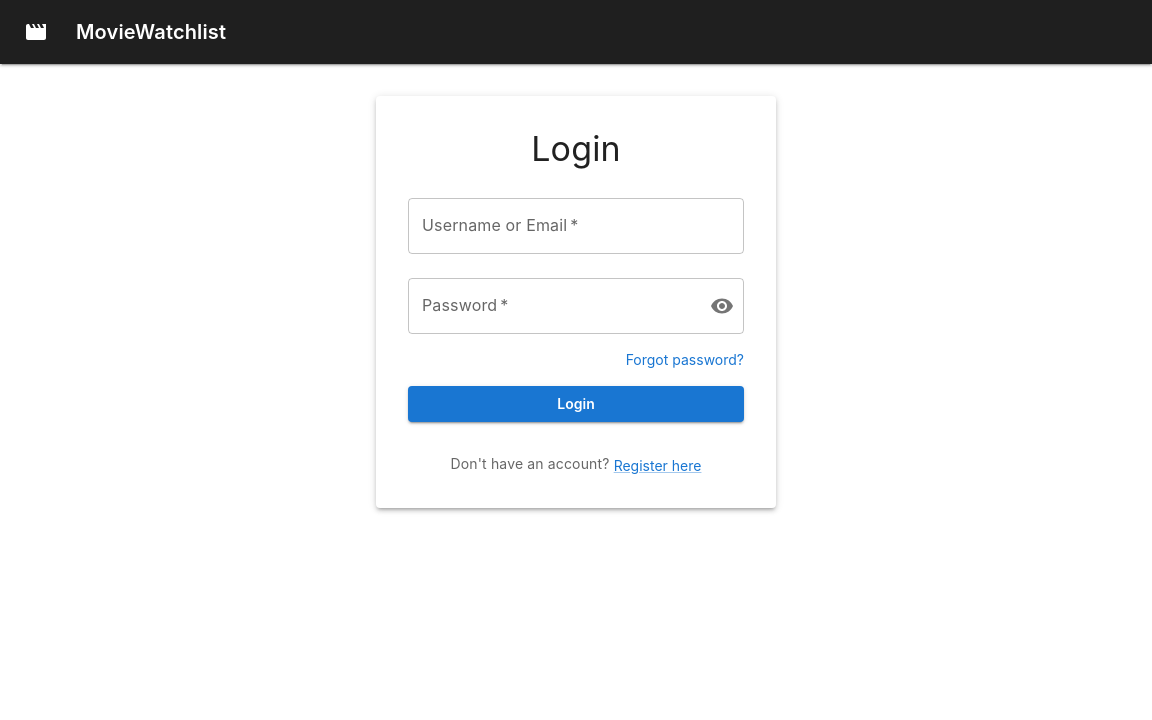
LoginForm › should handle unexpected errors gracefully
Type "testuser" into the field labelled "Username or Email *" at x=576, y=226, box left=408, top=198, right=744, bottom=254
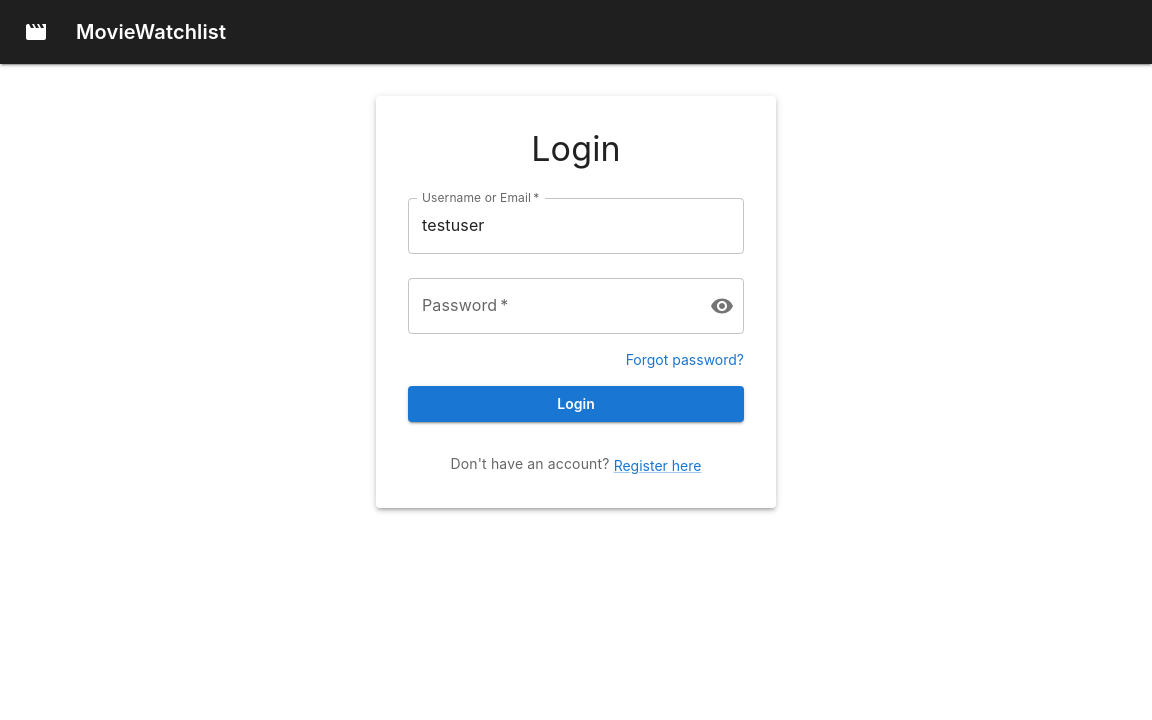
Type "Password123" into the password field named "password" at x=551, y=306, box left=408, top=278, right=694, bottom=334
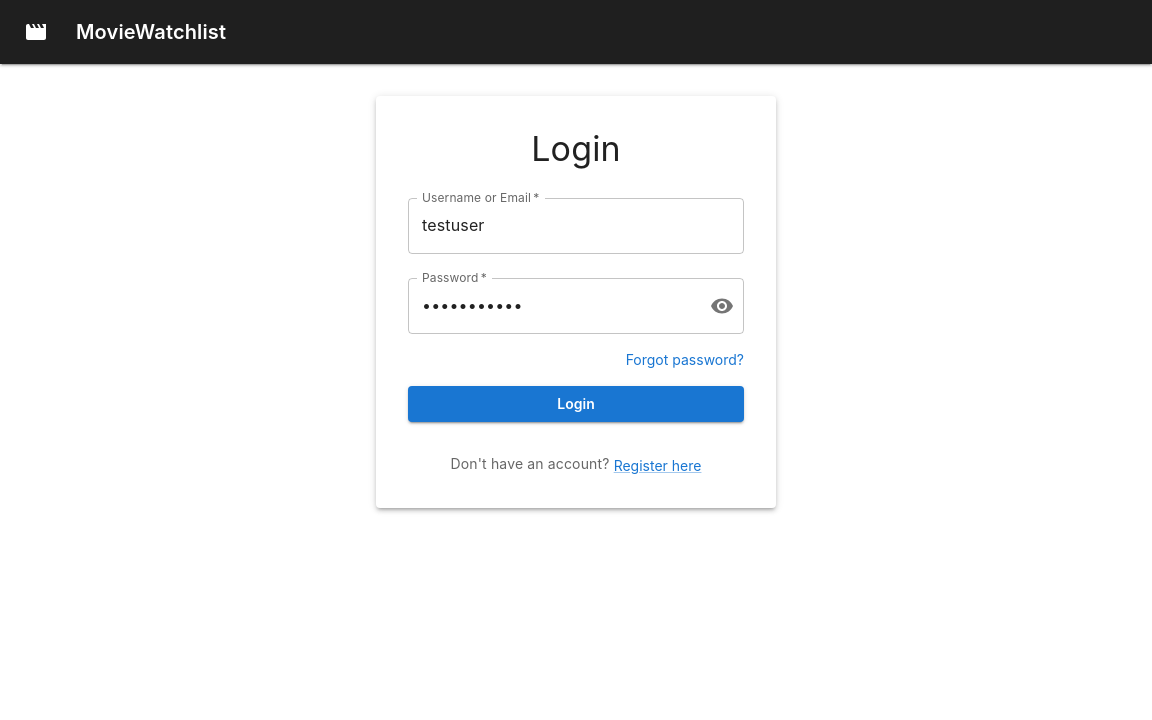
Click the button "Login" at x=576, y=404, box left=408, top=386, right=744, bottom=422
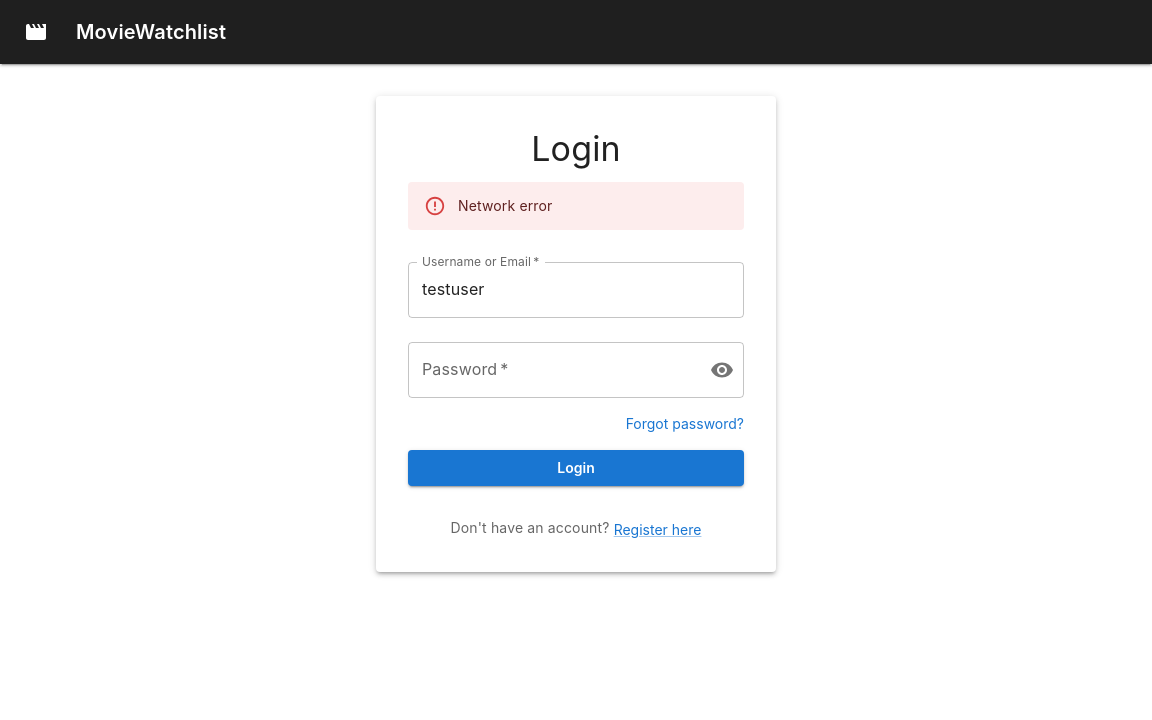
Expected: the text "Network error" is shown, left=458, top=197, right=552, bottom=214
